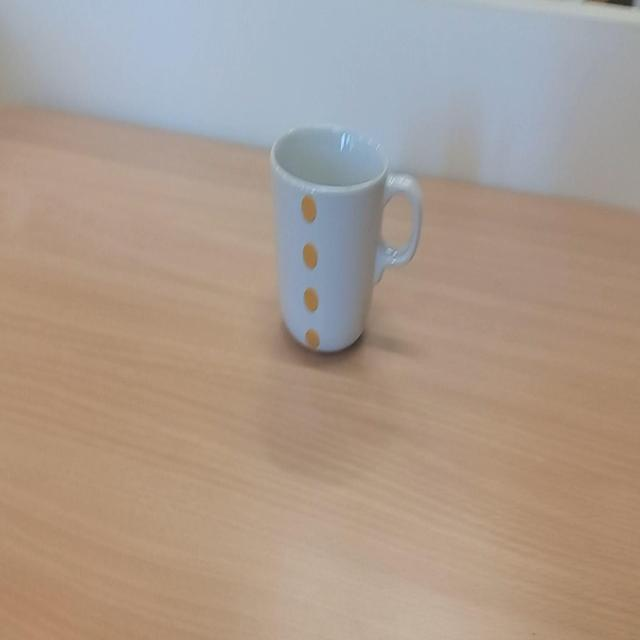cup: (270, 123, 424, 354)
